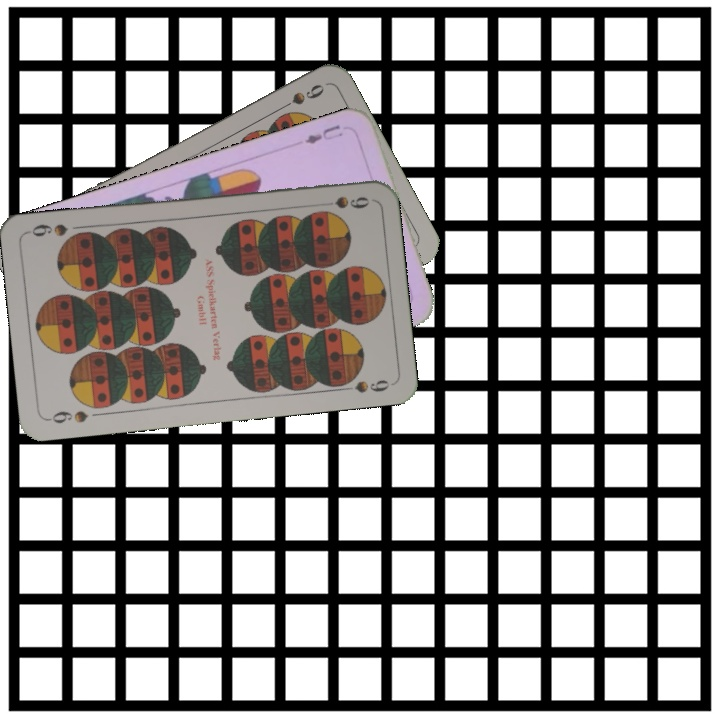EU: (301, 120, 345, 147)
S9: (272, 79, 328, 115), (313, 192, 372, 211), (44, 406, 91, 426)
